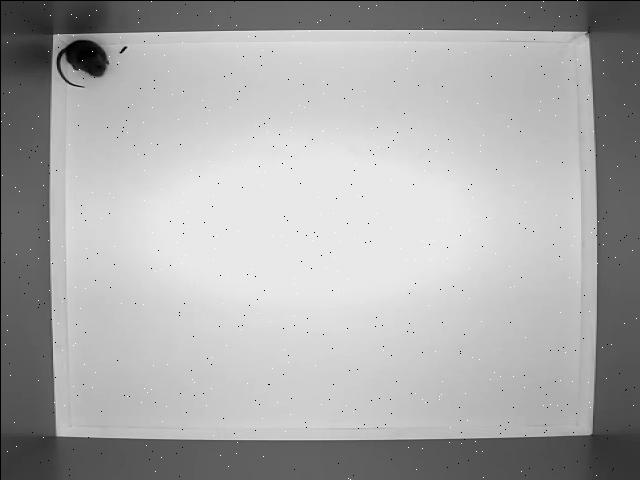Tikus: (54, 40, 110, 88)
